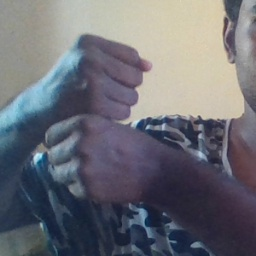G: (38, 30, 162, 204)
